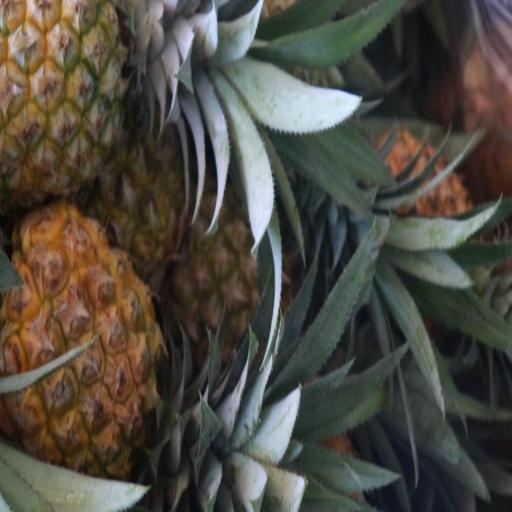Pineapple - v8 v1: (0, 210, 181, 487), (0, 0, 166, 189), (174, 178, 288, 368)
